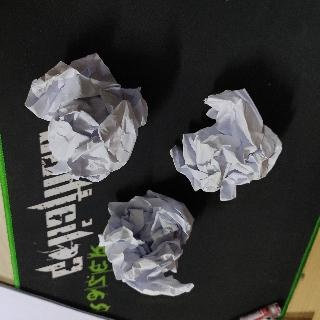8/可回收垃圾/纸: (25, 52, 149, 183), (168, 88, 284, 202), (98, 190, 195, 298)
